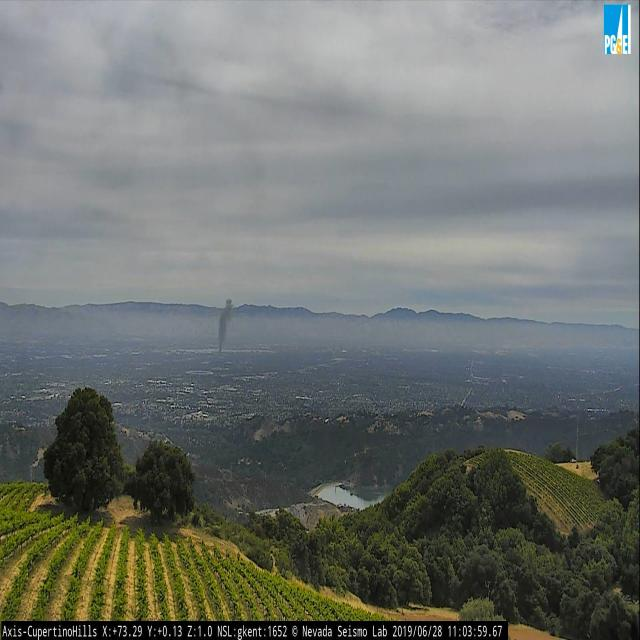smoke: (218, 298, 233, 354)
